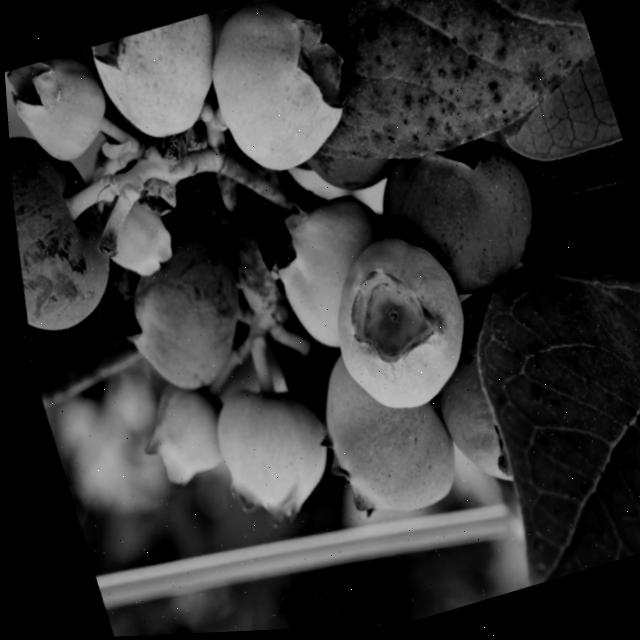RipeBlueBerry: (87, 207, 271, 416), (6, 105, 150, 352)
Semi-RipeBlueBerry: (289, 341, 483, 548), (186, 364, 353, 535)
UnripeBlueBerry: (290, 208, 502, 440), (174, 0, 377, 204), (71, 10, 245, 165)
